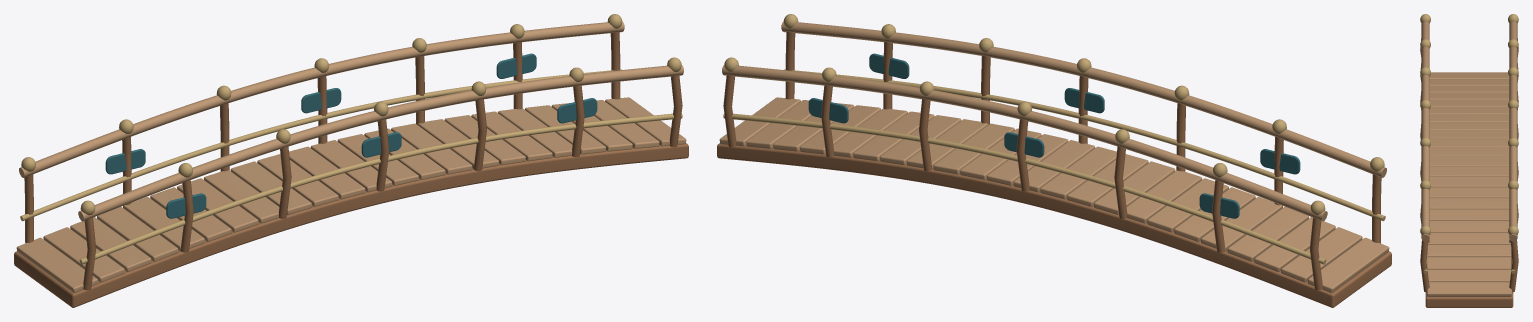
File: echo_arched_walkway_v2.glb
3 views of the same model, side by side, from view 1: azimuth 30°, elevation 25°; view 2: azimuth 150°, elevation 25°; view 3: azimuth 270°, elevation 25° (orthographic). The views are drawn at different scales.
Parts seen in each view (by area): view 1: echo_arched_walkway_v2__FurnitureWood_GoldenEdges, echo_arched_walkway_v2__FurnitureWood_WaxedChestnut, echo_arched_walkway_v2__Enamel_BrassHandrail, echo_arched_walkway_v2__Enamel_SideInset; view 2: echo_arched_walkway_v2__FurnitureWood_GoldenEdges, echo_arched_walkway_v2__FurnitureWood_WaxedChestnut, echo_arched_walkway_v2__Enamel_BrassHandrail, echo_arched_walkway_v2__Enamel_SideInset; view 3: echo_arched_walkway_v2__FurnitureWood_GoldenEdges, echo_arched_walkway_v2__FurnitureWood_WaxedChestnut, echo_arched_walkway_v2__Enamel_BrassHandrail.
Boxes of the visible parts, box(x1,y1,x2,y2) form: echo_arched_walkway_v2__FurnitureWood_GoldenEdges: box(16, 21, 686, 292); echo_arched_walkway_v2__FurnitureWood_WaxedChestnut: box(14, 32, 688, 307); echo_arched_walkway_v2__Enamel_BrassHandrail: box(20, 14, 682, 264); echo_arched_walkway_v2__Enamel_SideInset: box(105, 53, 597, 218); echo_arched_walkway_v2__FurnitureWood_GoldenEdges: box(719, 21, 1389, 292); echo_arched_walkway_v2__FurnitureWood_WaxedChestnut: box(717, 32, 1391, 307); echo_arched_walkway_v2__Enamel_BrassHandrail: box(723, 14, 1385, 264); echo_arched_walkway_v2__Enamel_SideInset: box(808, 53, 1300, 218); echo_arched_walkway_v2__FurnitureWood_GoldenEdges: box(1421, 21, 1517, 296); echo_arched_walkway_v2__FurnitureWood_WaxedChestnut: box(1420, 38, 1518, 307); echo_arched_walkway_v2__Enamel_BrassHandrail: box(1420, 14, 1518, 273).
Size of the model in its own units: 7.2 by 1.47 by 1.35.
